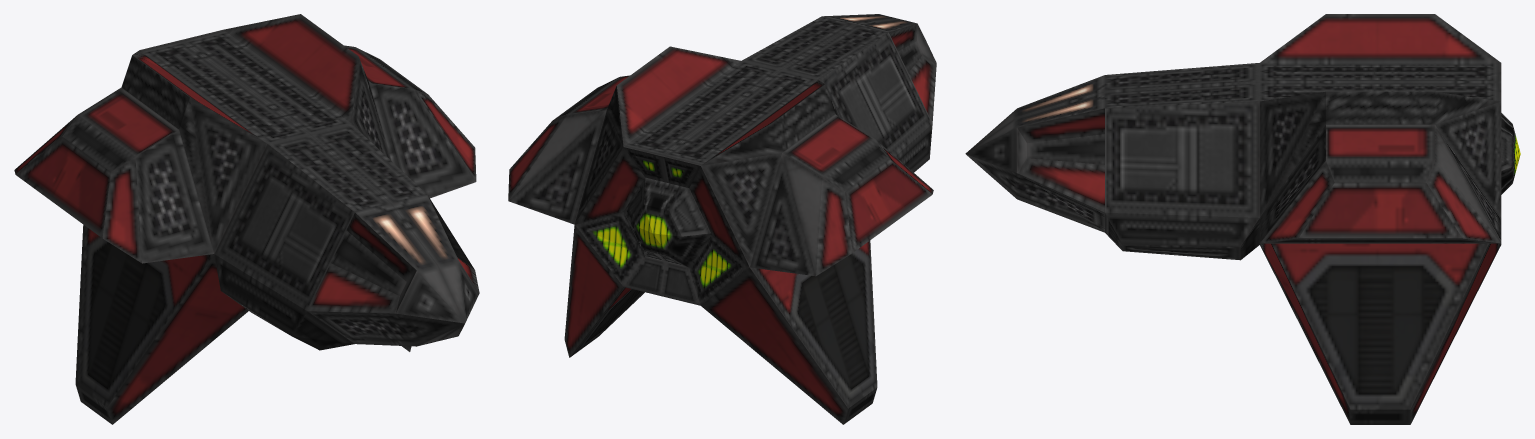
The model's file is BFP_Cockpit_03.FBX.
3 views of the same model, side by side, from view 1: azimuth 30°, elevation 25°; view 2: azimuth 150°, elevation 25°; view 3: azimuth 270°, elevation 25° (orthographic). The views are drawn at different scales.
Parts seen in each view (by area): view 1: BFP_Cockpit_03; view 2: BFP_Cockpit_03; view 3: BFP_Cockpit_03.
Part boxes in pixels (x1=…): BFP_Cockpit_03: x1=14, y1=14, x2=479, y2=424; BFP_Cockpit_03: x1=508, y1=14, x2=936, y2=424; BFP_Cockpit_03: x1=965, y1=14, x2=1520, y2=424.
Bounding box in the file's own units: 228 × 188 × 312.
1 material, 1 textured.
